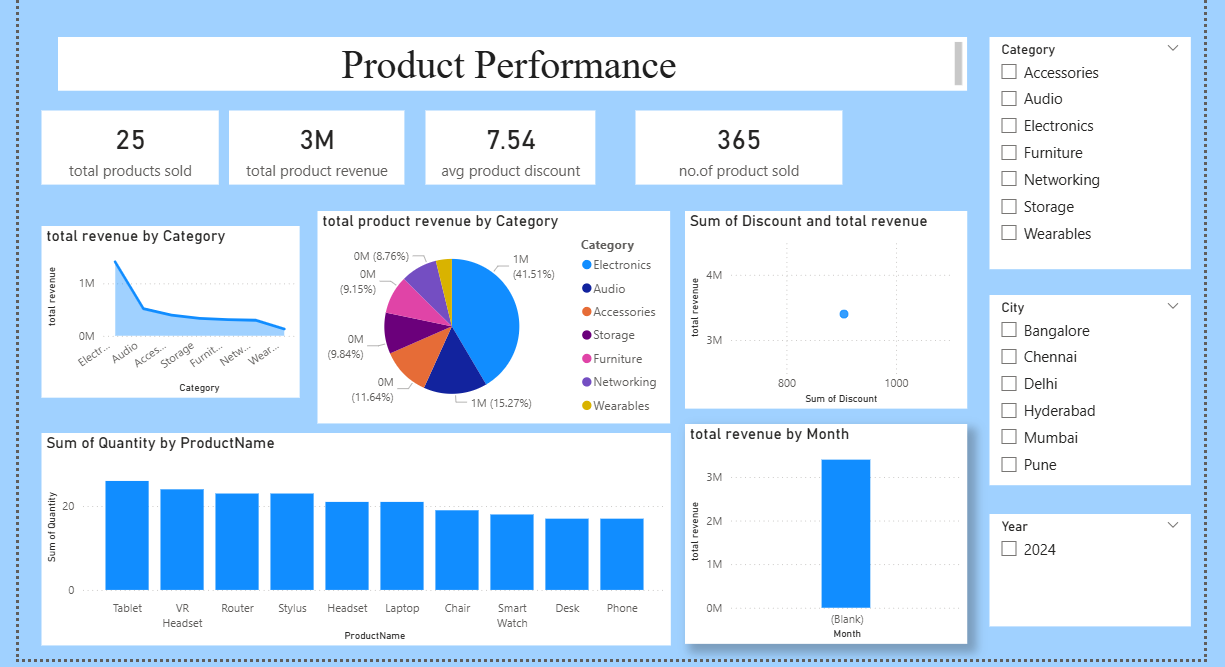

What the dashboard file says about the page in this screenshot:
{"tool":"powerbi","page":{"name":"Page 3","canvas":[1280,720],"ordinal":2},"visuals":[{"type":"slicer","fields":{"Values":["products.Category"]},"box":[1047.7,47.8,217.1,251],"z":0},{"type":"slicer","fields":{"Values":["stores.City"]},"box":[1047.7,326.6,217.1,205.1],"z":1000},{"type":"slicer","fields":{"Values":["date_dim.Year"]},"box":[1047.7,563.7,217.1,121.5],"z":2000},{"type":"stackedAreaChart","fields":{"Category":["products.Category"],"Y":["fact_sales.total revenue"]},"box":[23.9,253,278.8,185.2],"z":3000},{"type":"columnChart","fields":{"Category":["products.ProductName"],"Y":["Sum(fact_sales.Quantity)"]},"box":[23.9,476,679.2,229],"z":4000},{"type":"card","fields":{"Values":["products.total products sold"]},"box":[23.9,127.5,191.2,79.7],"z":5000},{"type":"card","fields":{"Values":["fact_sales.total product revenue"]},"box":[227.1,127.5,189.2,79.7],"z":6000},{"type":"card","fields":{"Values":["fact_sales.avg product discount"]},"box":[438.8,127.9,246.1,79.3],"z":7000},{"type":"card","fields":{"Values":["fact_sales.no.of product sold"]},"box":[718.9,127.9,301.2,79.3],"z":8000},{"type":"pieChart","fields":{"Y":["fact_sales.total product revenue"],"Category":["products.Category"]},"box":[322.7,237,380.4,229],"z":9000},{"type":"columnChart","fields":{"Category":["date_dim.Month"],"Y":["fact_sales.total revenue"]},"box":[719,466.1,304.7,237],"z":10000},{"type":"scatterChart","fields":{"X":["Sum(fact_sales.Discount)"],"Y":["fact_sales.total revenue"]},"box":[719,237,304.7,213.1],"z":11000},{"type":"textbox","box":[42.1,48.6,981.3,58.3],"z":12000}]}

Visuals, with their boxes on the page's 1280x720 design canvas (x1, y1, x2, y2). These are canvas units, not pixel positions in the 1225x667 screenshot, which may show the page scaled, cropped or inside an application window:
slicer - products.Category: region(1048, 48, 1265, 299)
slicer - stores.City: region(1048, 327, 1265, 532)
slicer - date_dim.Year: region(1048, 564, 1265, 685)
stackedAreaChart - products.Category x fact_sales.total revenue: region(24, 253, 303, 438)
columnChart - products.ProductName x Sum(fact_sales.Quantity): region(24, 476, 703, 705)
card - products.total products sold: region(24, 128, 215, 207)
card - fact_sales.total product revenue: region(227, 128, 416, 207)
card - fact_sales.avg product discount: region(439, 128, 685, 207)
card - fact_sales.no.of product sold: region(719, 128, 1020, 207)
pieChart - fact_sales.total product revenue x products.Category: region(323, 237, 703, 466)
columnChart - date_dim.Month x fact_sales.total revenue: region(719, 466, 1024, 703)
scatterChart - Sum(fact_sales.Discount) x fact_sales.total revenue: region(719, 237, 1024, 450)
textbox: region(42, 49, 1023, 107)
